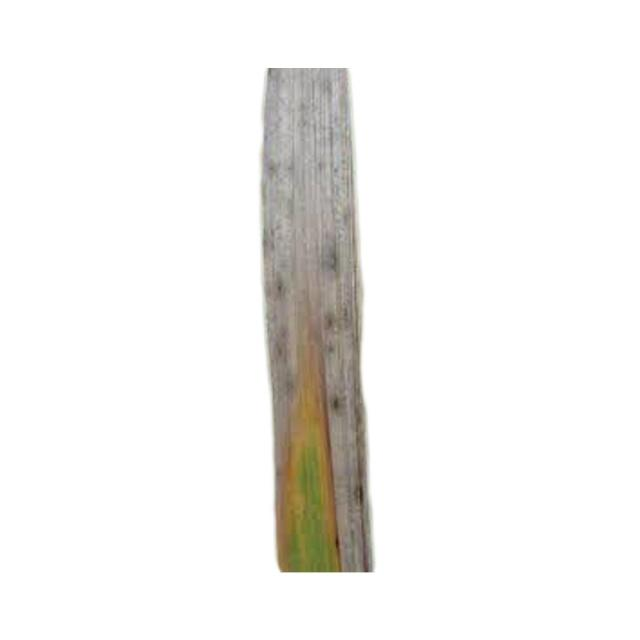Leaf scald: (222, 41, 402, 584)
